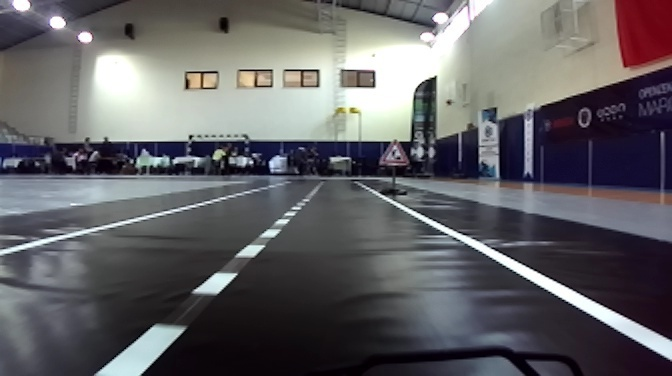yol_yapimi: (377, 137, 413, 165)
